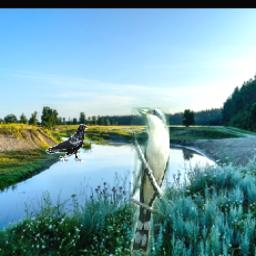Crow: (45, 125, 88, 163)
Cuckoo: (132, 107, 171, 256)
